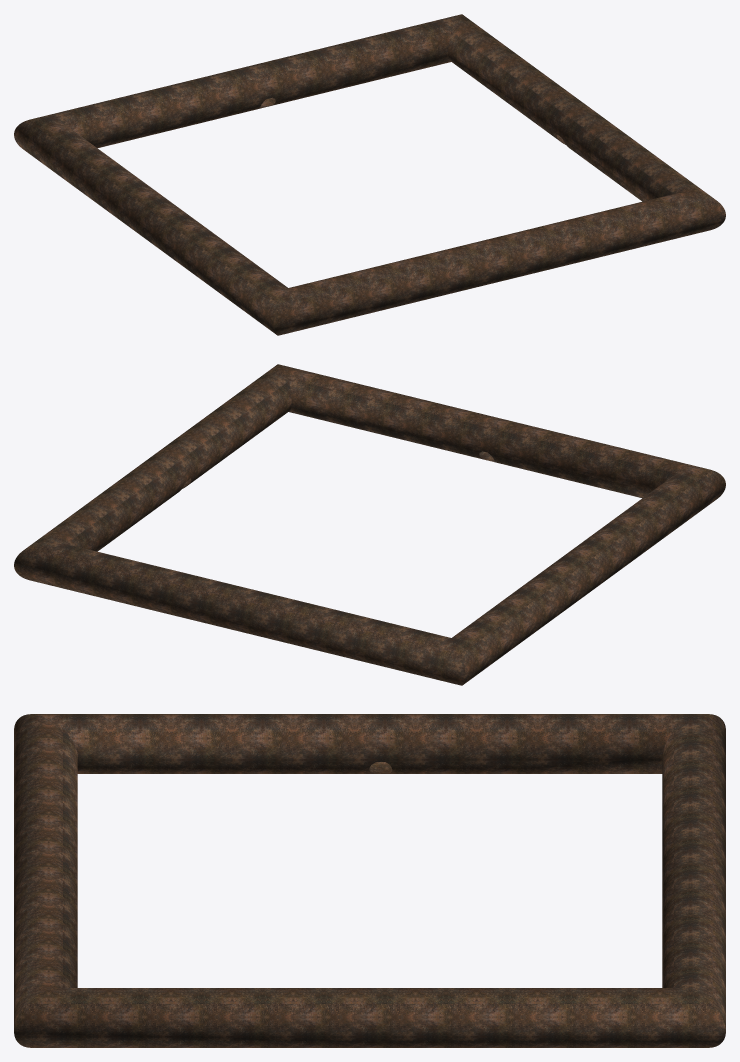
Rendered from tunel.obj.
3 views of the same model, one above another, from view 1: azimuth 30°, elevation 25°; view 2: azimuth 150°, elevation 25°; view 3: azimuth 270°, elevation 25° (orthographic). The views are drawn at different scales.
Size of the model in its own units: 21.25 by 1.76 by 21.25.
